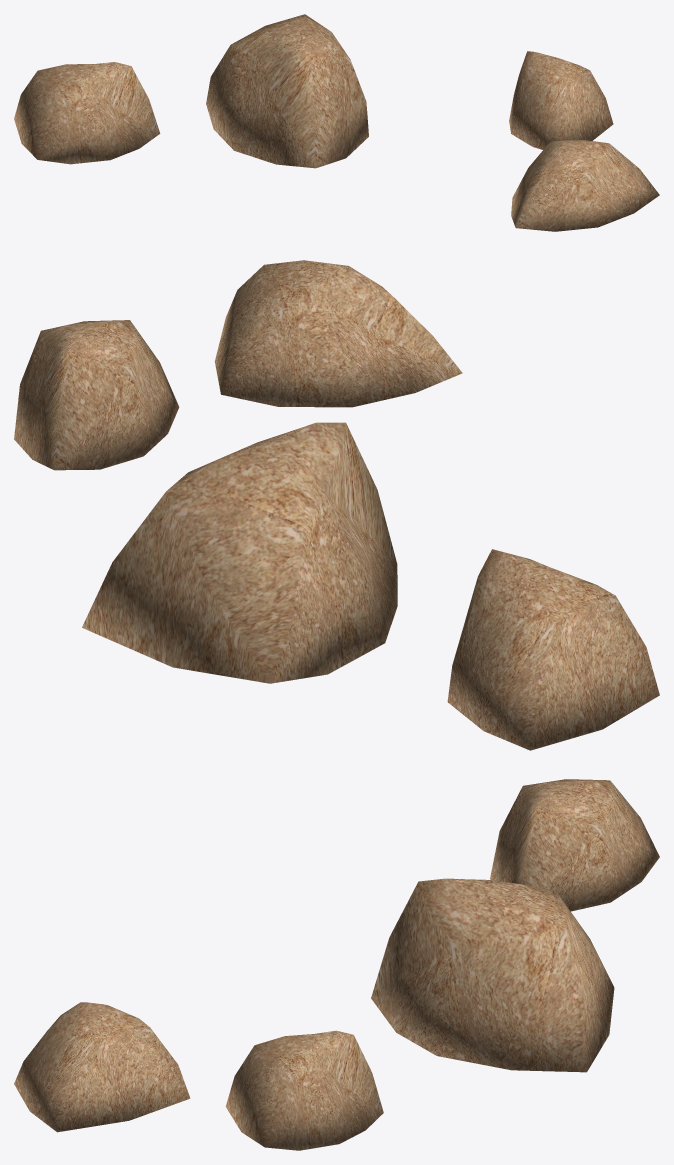
Rendered from rock_pebbleclump_l0.fbx.
3 renders of one model, top to bottom at view 1: azimuth 30°, elevation 25°; view 2: azimuth 150°, elevation 25°; view 3: azimuth 270°, elevation 25°, orthographic. The views are drawn at different scales.
Visible parts, largest first — view 1: mesh_node; view 2: mesh_node; view 3: mesh_node.
Boxes of the visible parts, bbox=[...] form: mesh_node: bbox=[14, 14, 659, 231]; mesh_node: bbox=[14, 260, 659, 750]; mesh_node: bbox=[14, 779, 659, 1150].
Size of the model in its own units: 0.8528 by 0.1924 by 0.7689.
